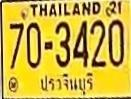0: (108, 20, 124, 66), (26, 22, 40, 67)
2: (90, 20, 105, 67)
3: (55, 22, 70, 66)
4: (72, 20, 88, 66)
7: (9, 22, 23, 69)
PRI: (37, 71, 95, 95)
